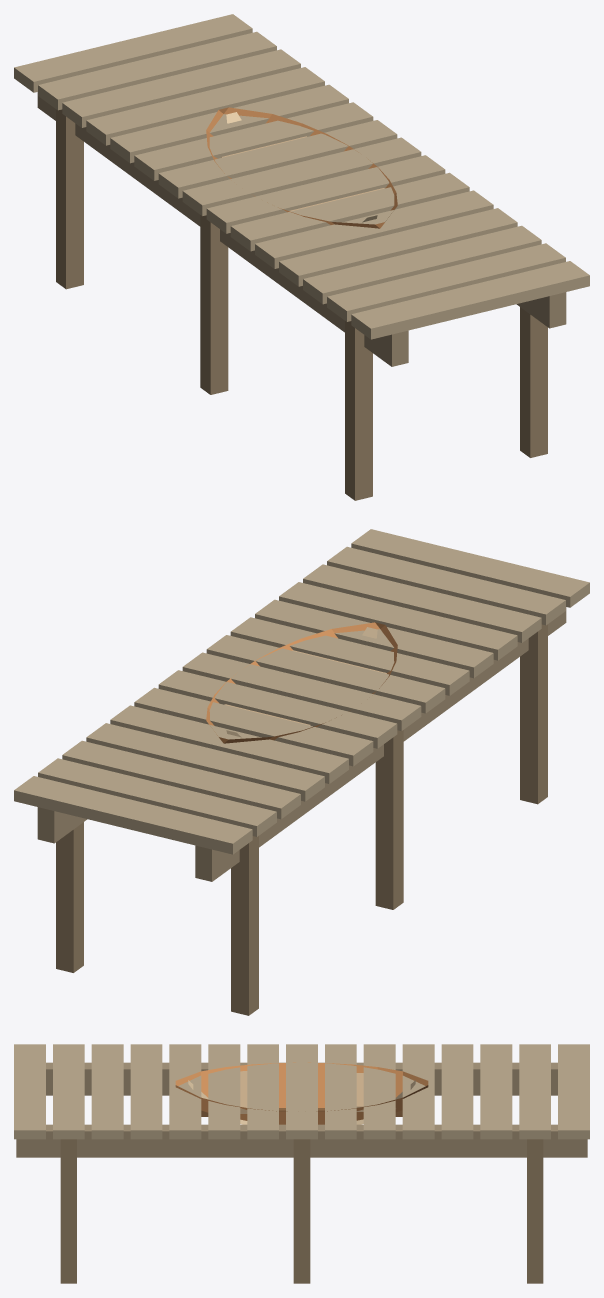
The model's file is dock_boat.glb.
3 renders of one model, top to bottom at view 1: azimuth 30°, elevation 25°; view 2: azimuth 150°, elevation 25°; view 3: azimuth 270°, elevation 25°, orthographic. The views are drawn at different scales.
Parts seen in each view (by area): view 1: Dock, Rowboat; view 2: Dock, Rowboat; view 3: Dock, Rowboat.
Part boxes in pixels (x1,y1,x2,y2): Dock: (14,14,589,500); Rowboat: (206,107,397,228); Dock: (14,529,589,1015); Rowboat: (206,622,397,743); Dock: (14,1044,589,1283); Rowboat: (175,1062,428,1124).
Bounding box in the file's own units: 2.1 × 1.86 × 5.93.
